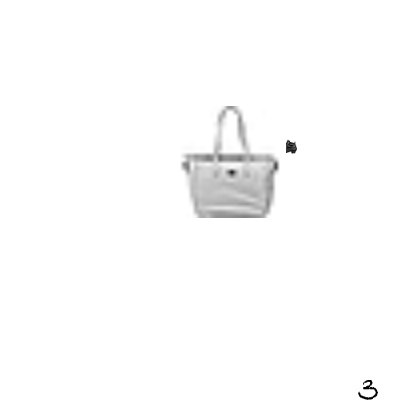3: (354, 376, 382, 404)
Ankle_boot: (275, 135, 297, 157), (211, 165, 225, 179)
Bag: (174, 106, 286, 218)
